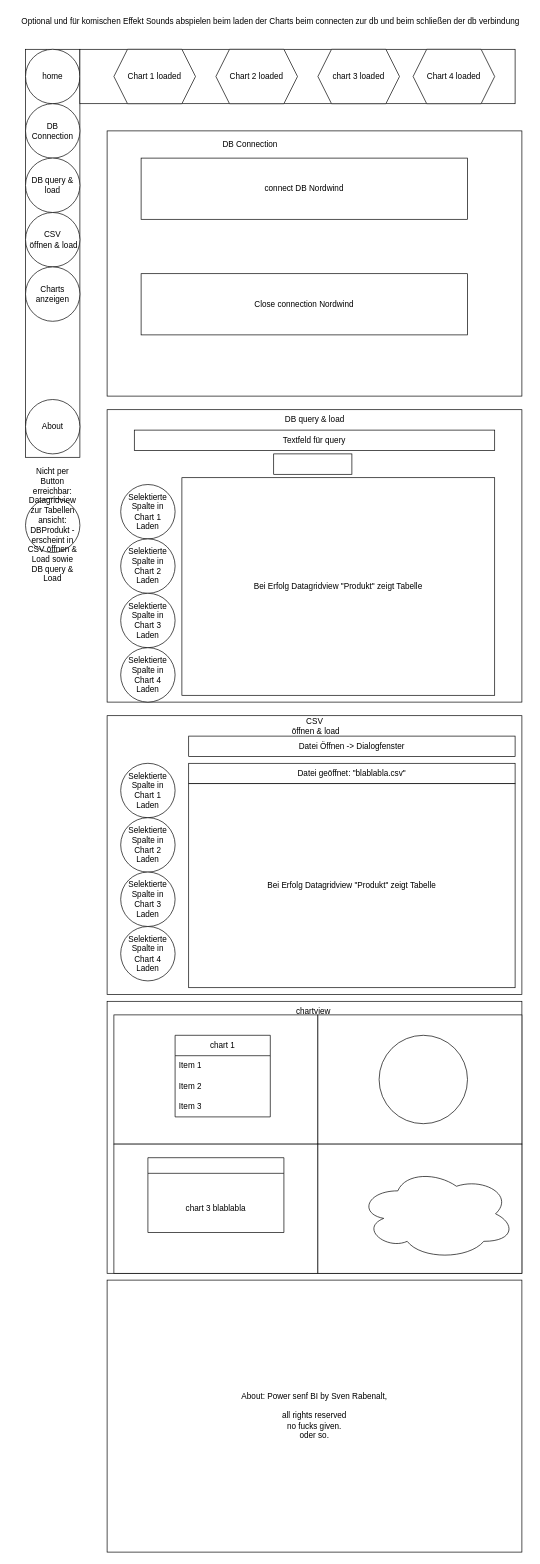
The diagram is 540 pixels wide and 1564 high, and some of its shapes have lost their labels. Here are the shapes that lost their labels. From the top down, the centre of each, then its label:
At point (312, 463): "Query abfeuern (Fehlerbehandlung!!!)".
At point (423, 1079): "chart 2".
At point (215, 1194): "Vertical Container".
At point (436, 1213): "chart4 wasauchimmer".
